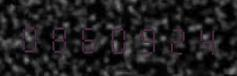eight: (46, 18, 74, 55)
four: (191, 21, 219, 57)
nine: (133, 20, 161, 56)
six: (75, 19, 103, 55)
two: (162, 20, 190, 57)
zero: (104, 19, 132, 56), (17, 18, 45, 54)
